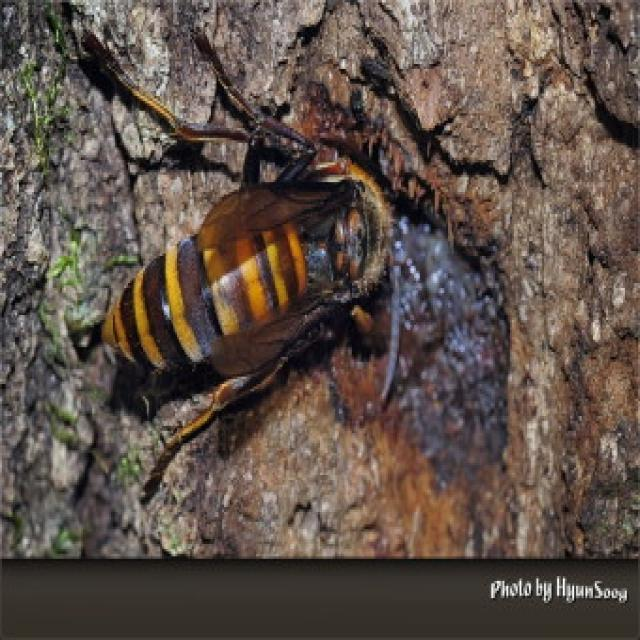Wasp: (83, 24, 409, 492)
